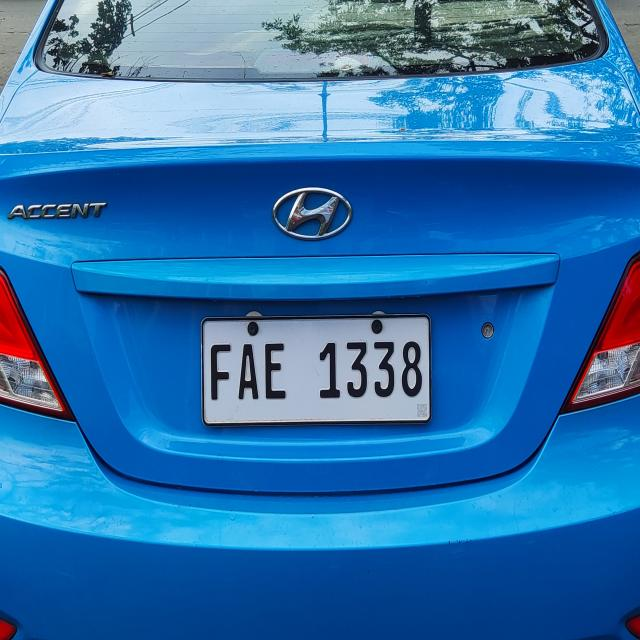plate: (200, 312, 433, 429)
